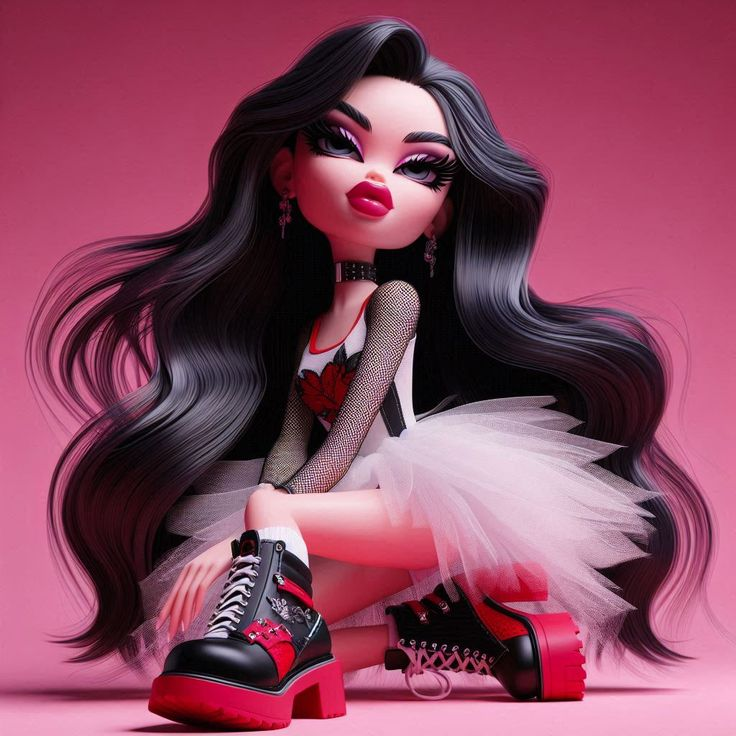Imprimante: (115, 375, 370, 584)
